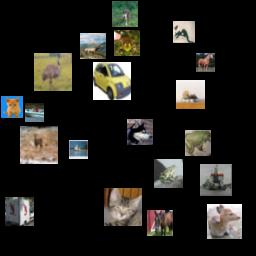airplane: (176, 80, 205, 109)
automobile: (93, 62, 131, 100)
bird: (34, 53, 72, 91)
cat: (104, 188, 142, 226), (112, 1, 138, 27), (173, 21, 195, 43), (1, 96, 23, 118)
deer: (20, 126, 58, 164), (207, 204, 242, 239), (80, 33, 106, 59)
dog: (127, 119, 153, 145)
frog: (154, 159, 183, 188), (114, 30, 140, 56), (185, 130, 211, 156)
ship: (200, 164, 232, 196), (25, 103, 44, 122), (69, 140, 88, 159)
truck: (5, 197, 34, 226)
